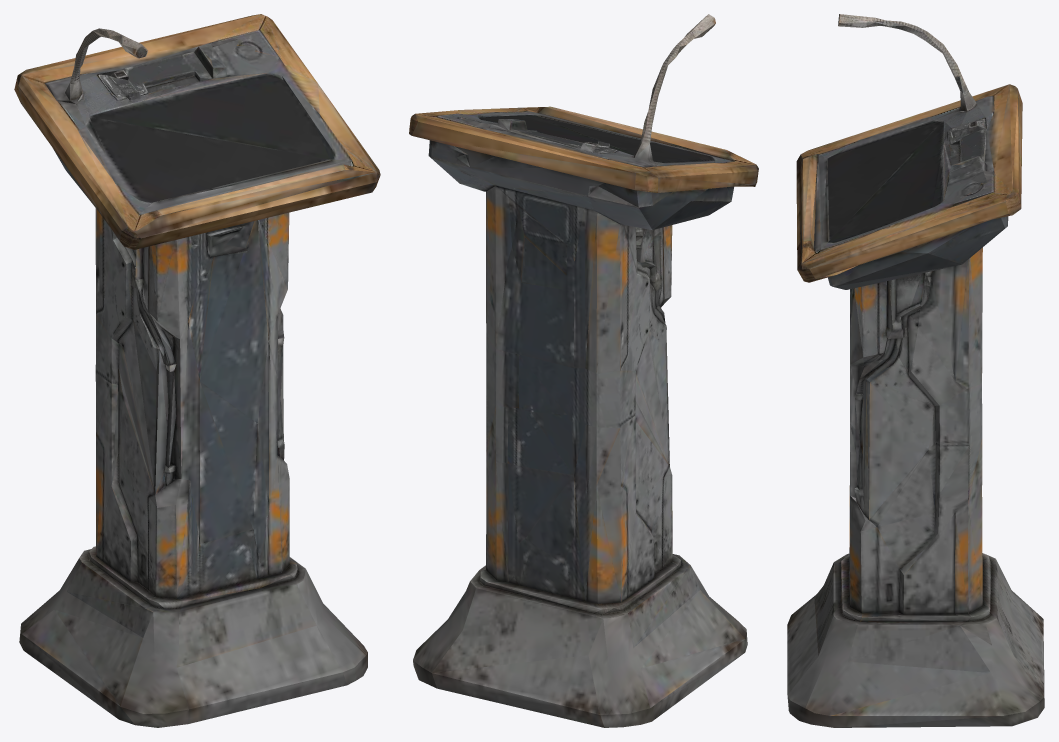
Rendered from lectern.glb.
The picture shows the model from 3 angles, left to right: view 1: azimuth 30°, elevation 25°; view 2: azimuth 150°, elevation 25°; view 3: azimuth 270°, elevation 25°; orthographic projection. The views are drawn at different scales.
Visible parts, largest first — view 1: Mesh_0; view 2: Mesh_0; view 3: Mesh_0.
Part boxes in pixels (x1,y1,x2,y2): Mesh_0: (14, 14, 380, 727); Mesh_0: (409, 14, 758, 727); Mesh_0: (787, 14, 1044, 727).
Size of the model in its own units: 0.4651 by 1.15 by 0.4348.
Materials: 1 (1 with a texture image).
